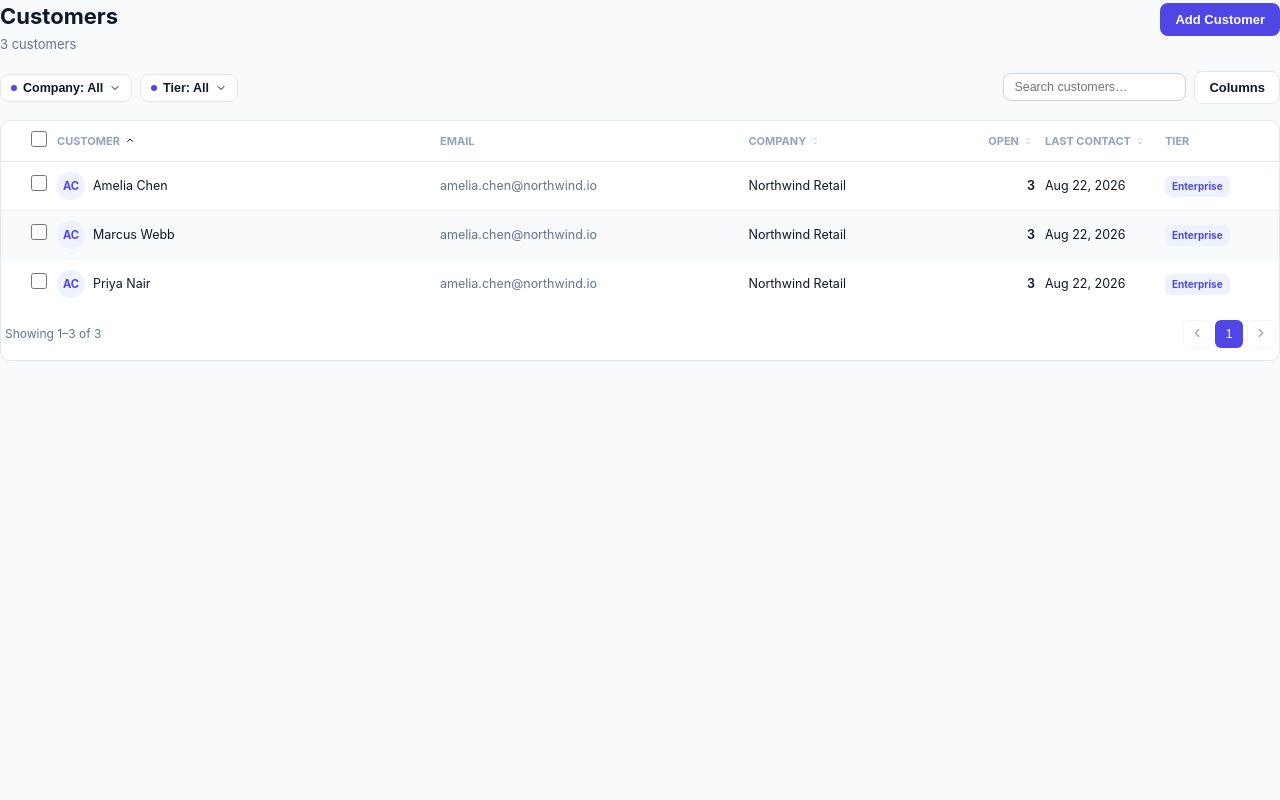
Test: CustomersPage › names the count and the action in the bulk confirmation
Check: the text "Amelia Chen" is shown, box [93,178,168,193]
Click the checkbox named "Select Amelia Chen" at (39, 183), box [31,175,47,191]
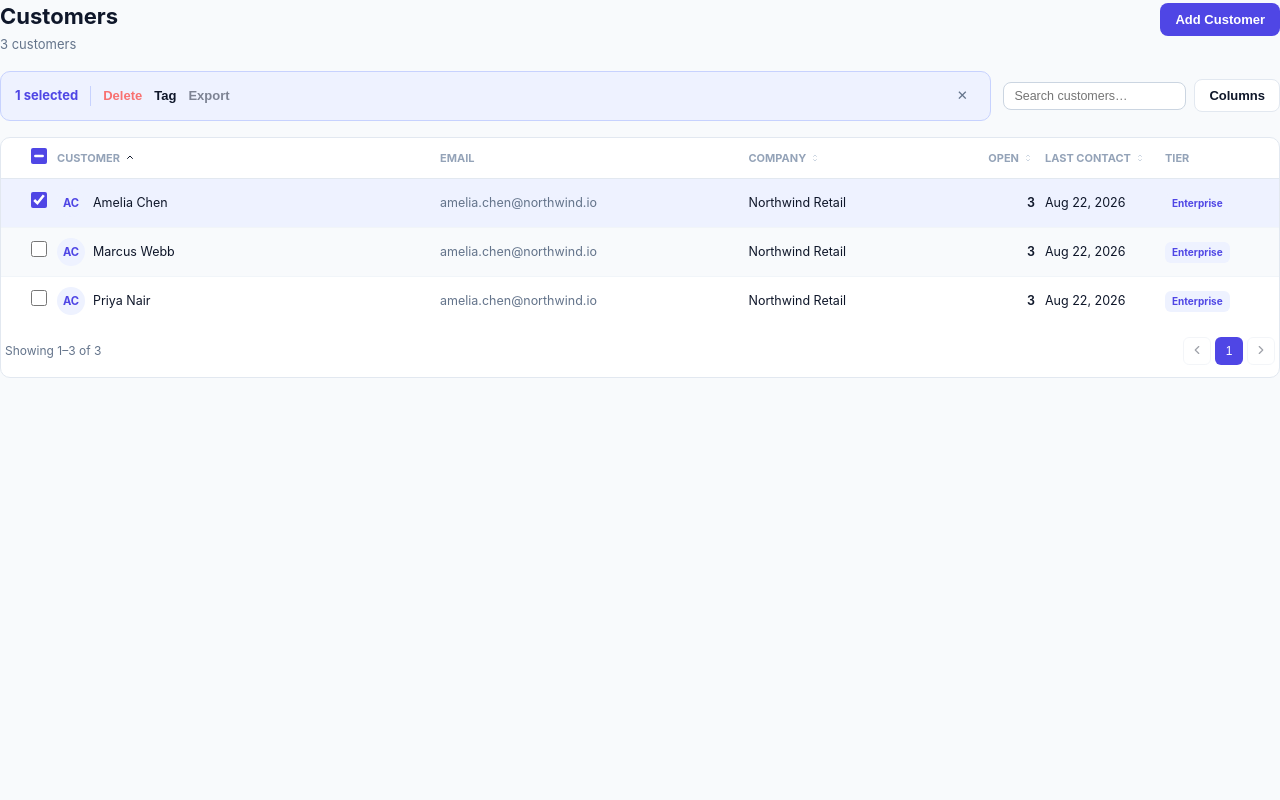
Click the checkbox named "Select Marcus Webb" at (39, 249), box [31,241,47,257]
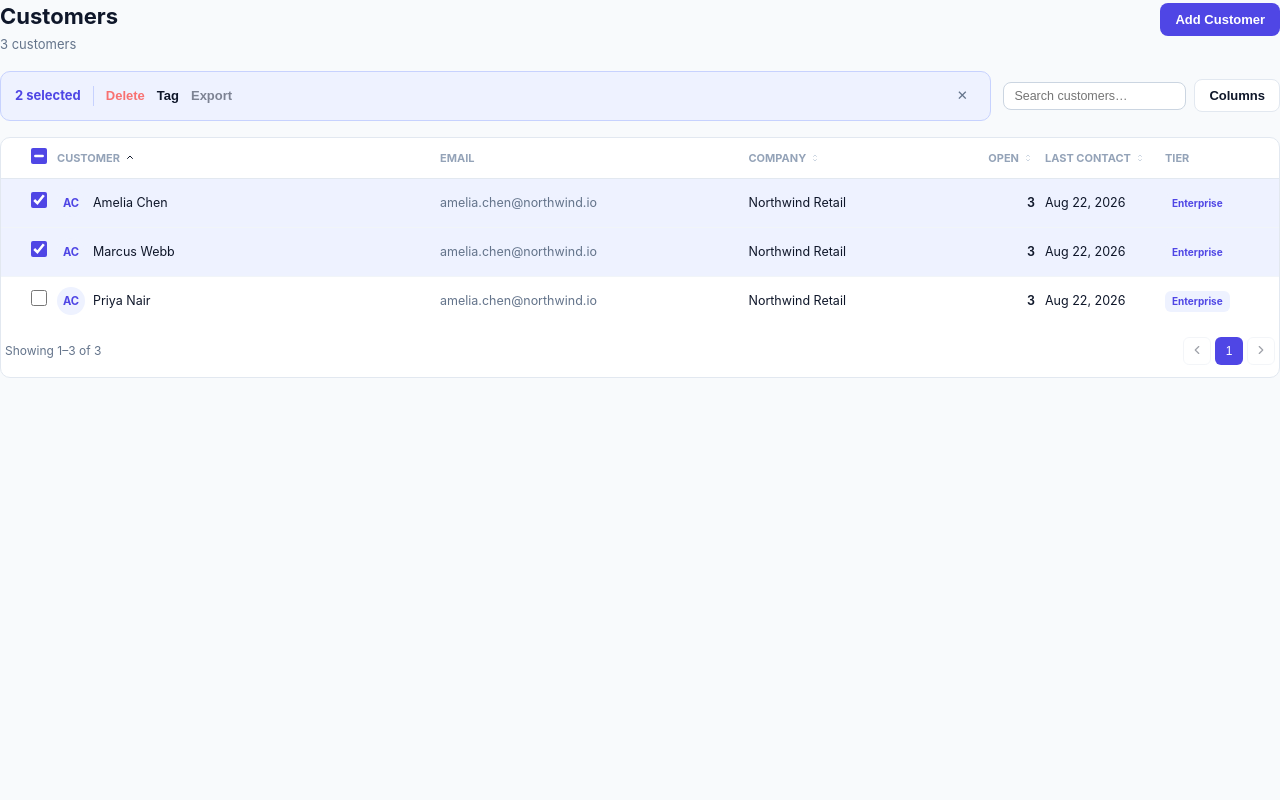
Click the checkbox named "Select Priya Nair" at (39, 298), box [31,290,47,306]
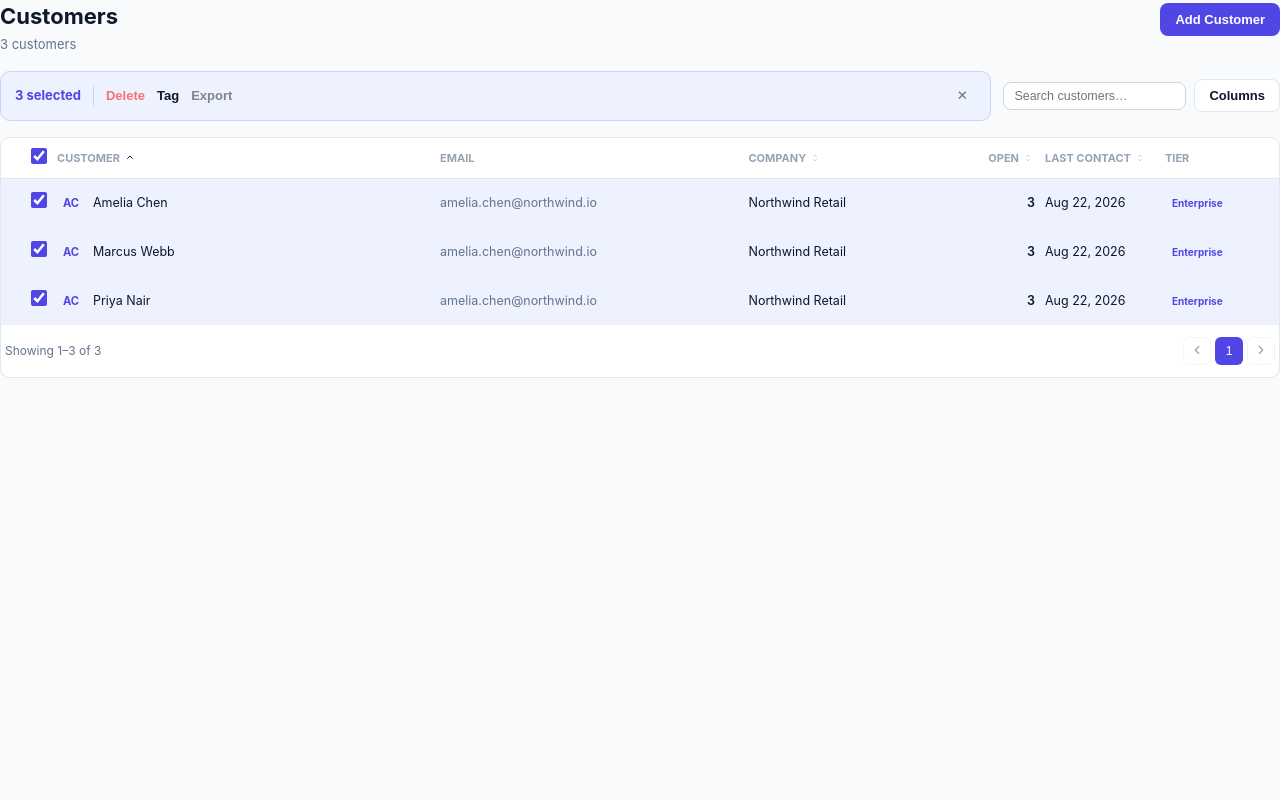
Click the button "Delete" at (126, 96), box [106,88,145,103]
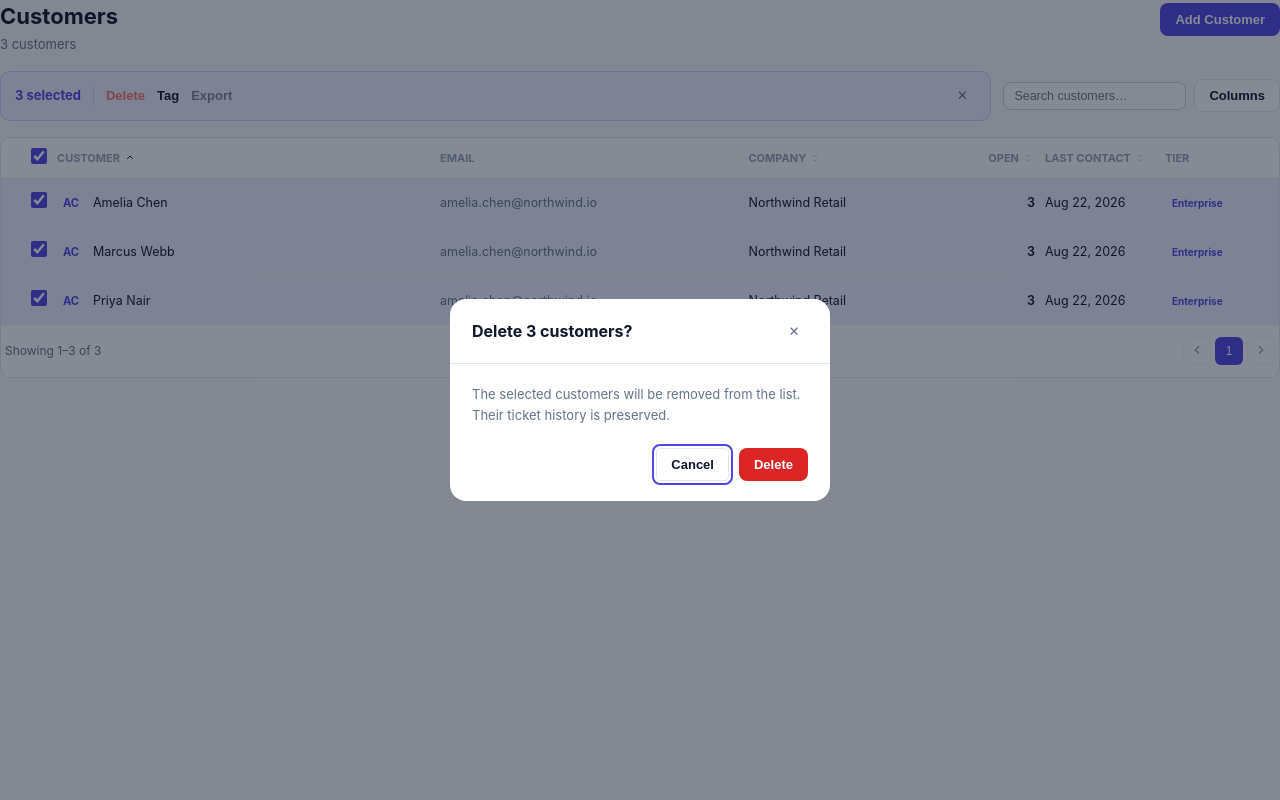
Check: the heading shows "3", box [472,321,632,341]
Check: the heading shows "Delete", box [472,321,632,341]
